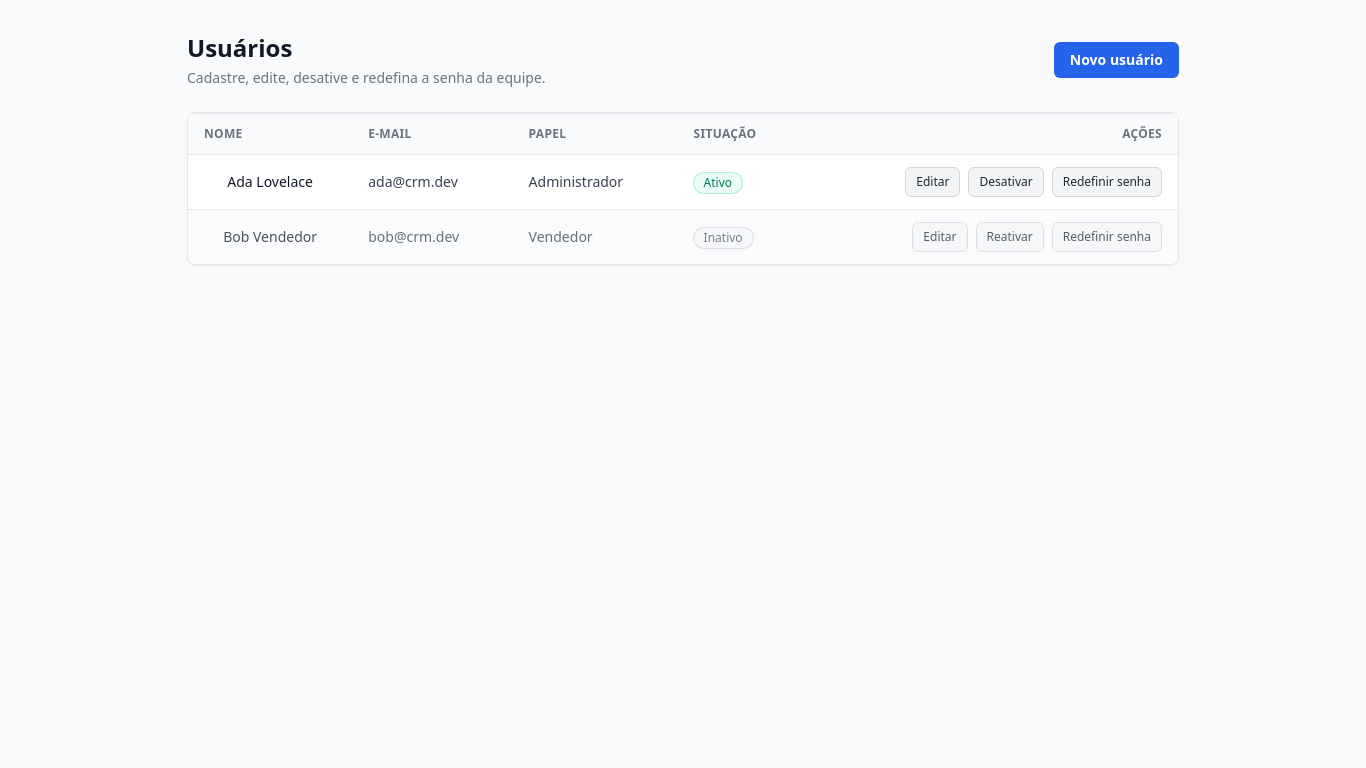
página de usuários › cria um usuário e mostra a senha provisória uma única vez
This screenshot has width=1366, height=768.
Click the button "Novo usuário" at (1116, 60), box [1054,42,1179,78]
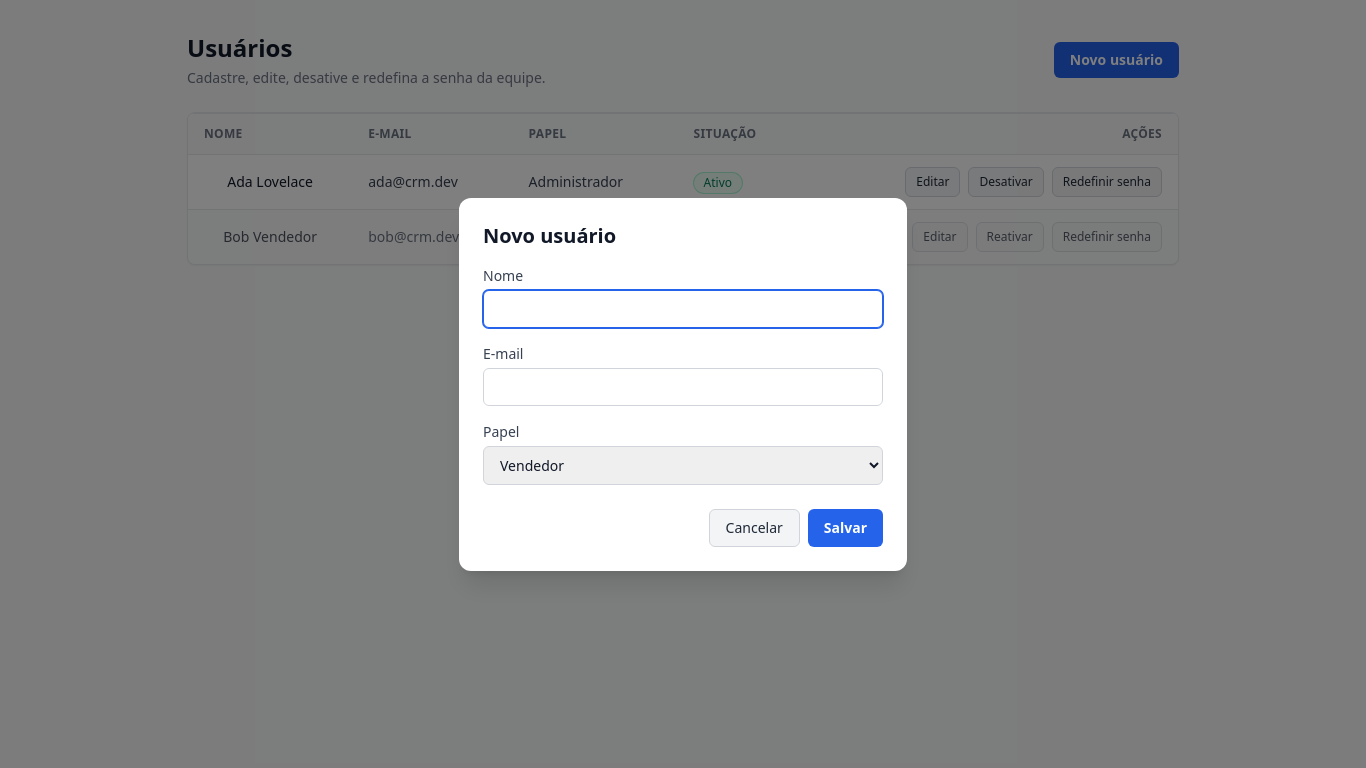
Type "Carol" into the field labelled "Nome" at (683, 308), box [483,290,883,328]
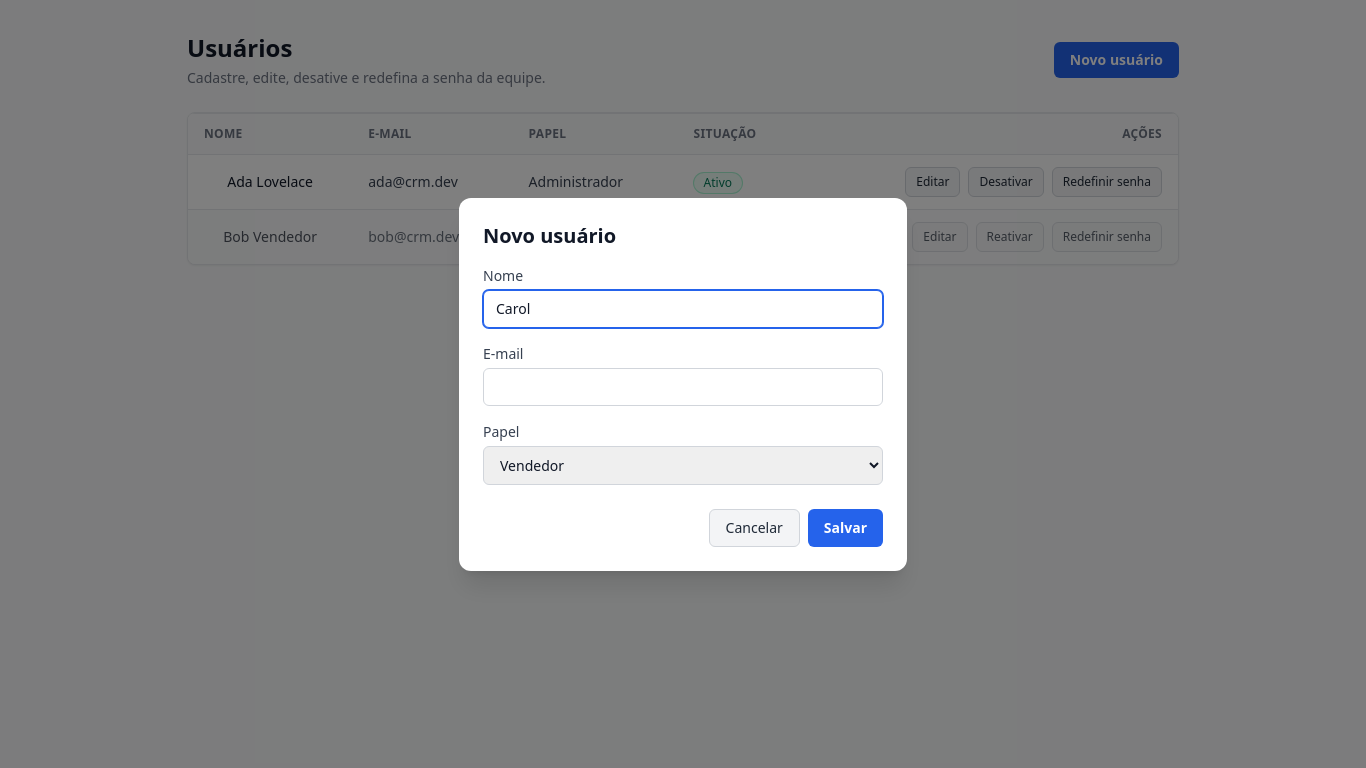
Type "carol@crm.dev" into the field labelled "E-mail" at (683, 386), box [483,368,883,406]
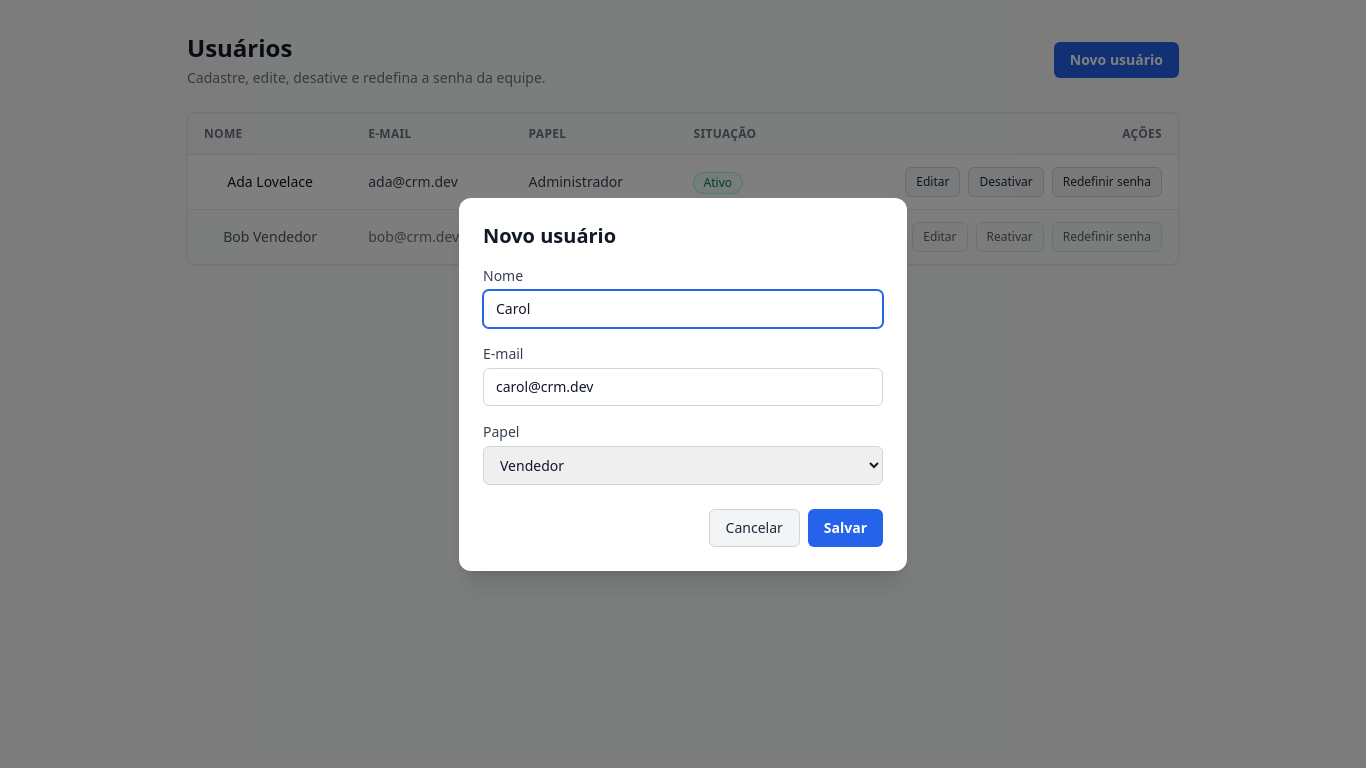
Select "Vendedor" in the dropdown labelled "Papel" at (683, 465), box [483,446,883,484]
Click the button "Salvar" at (845, 528), box [808,508,883,546]
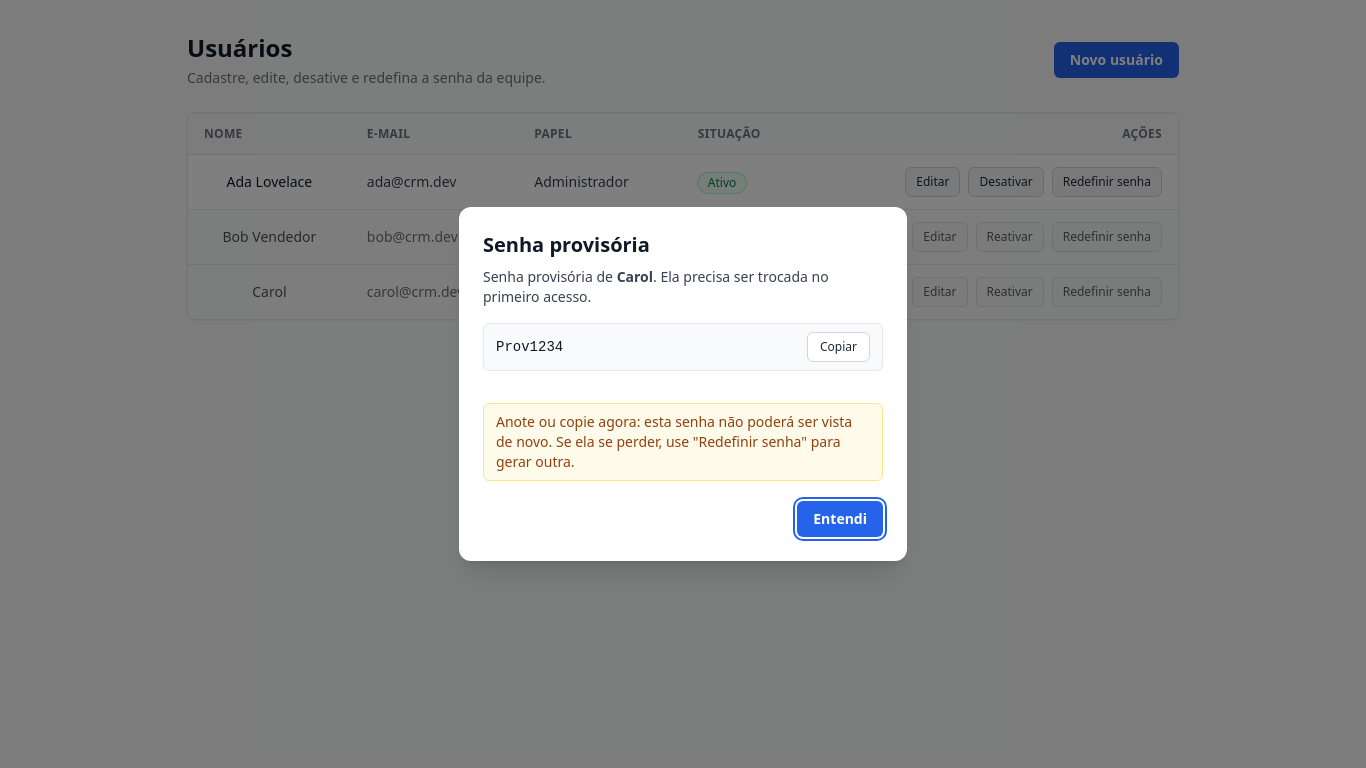
Result: the text "Prov1234" is shown at [496,339,563,355]
# …e some de vez quando o diálogo é fechado.
Click the button "Entendi" at (840, 519), box [797,501,883,537]
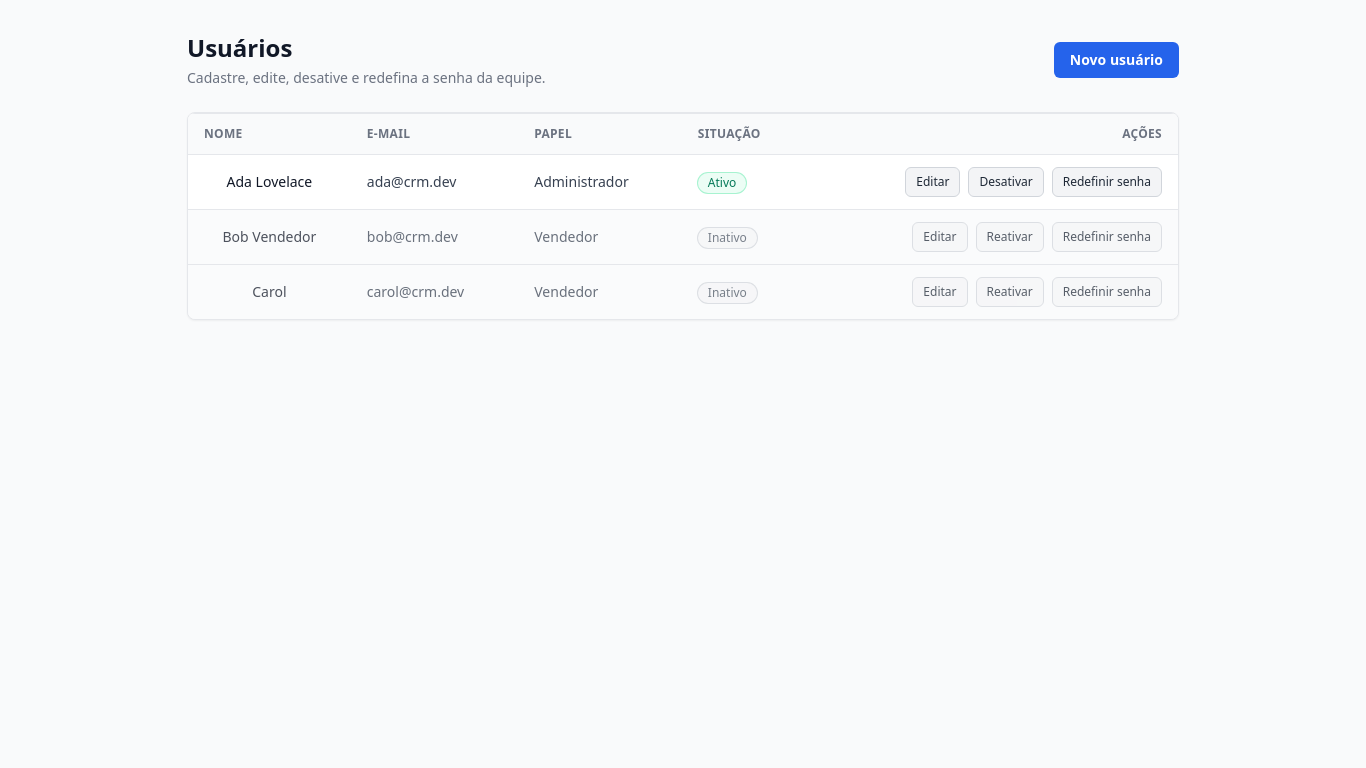
Result: the text "Prov1234" is gone
Result: the dialog is gone
